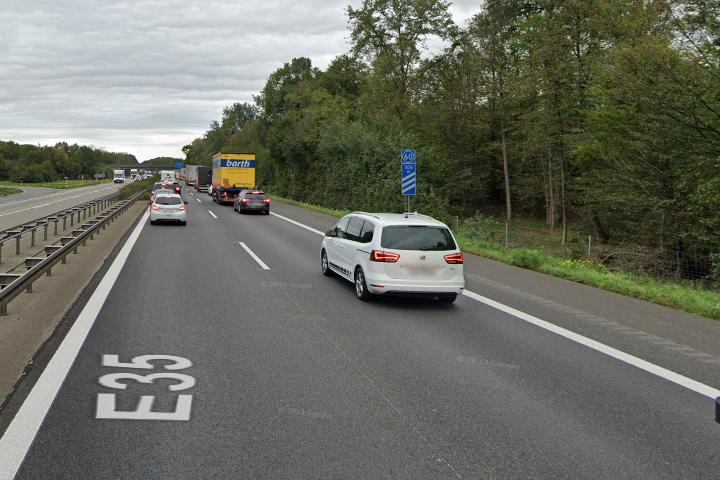traffic_sign: (401, 150, 416, 163)
vehicle: (311, 204, 470, 306), (211, 149, 259, 205), (150, 194, 190, 226), (232, 187, 271, 216), (150, 187, 181, 212), (112, 168, 126, 184), (128, 167, 140, 179)
